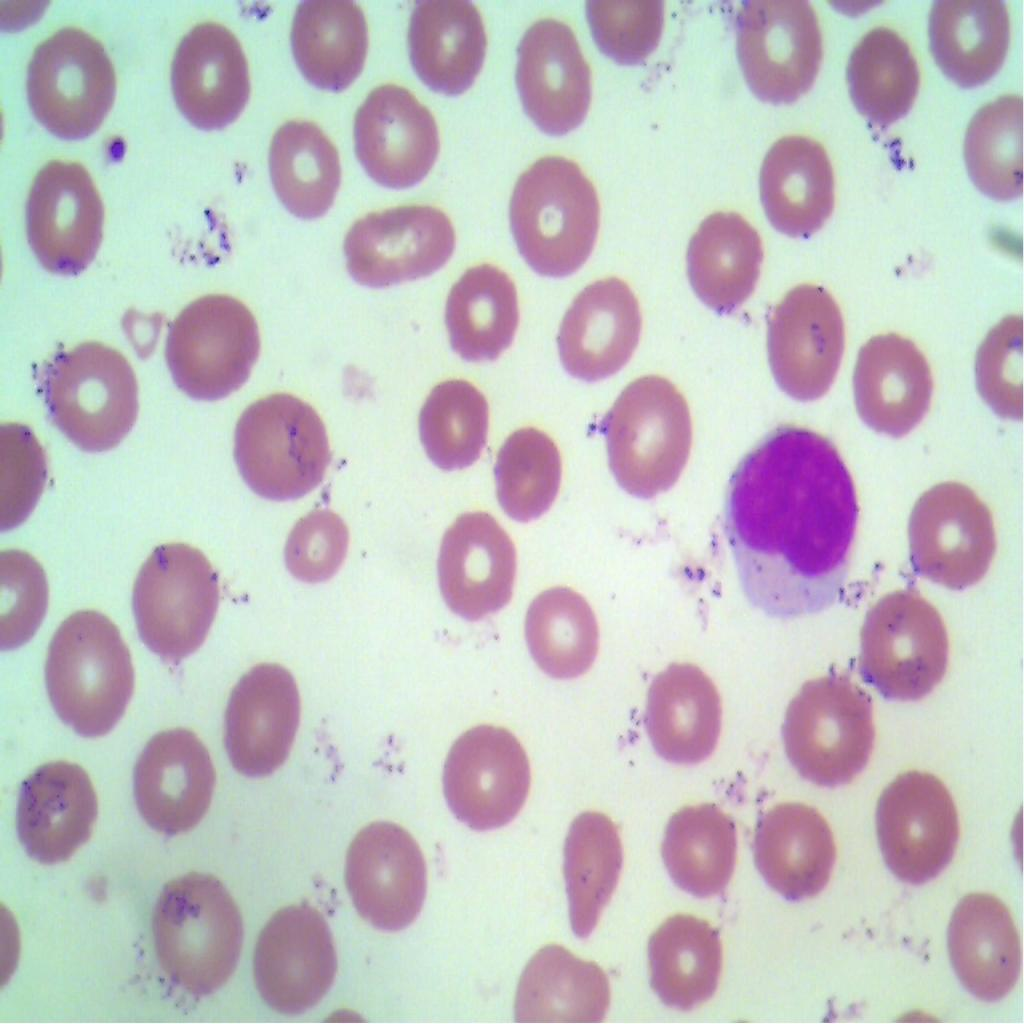Eritrosit: (150, 8, 272, 168), (596, 362, 702, 514), (146, 852, 246, 1010), (846, 578, 955, 718), (118, 530, 230, 664), (221, 384, 338, 512), (6, 159, 112, 295), (19, 9, 123, 144), (509, 17, 613, 152), (328, 195, 466, 296), (16, 744, 109, 890), (928, 876, 1023, 1018), (335, 817, 446, 938), (756, 264, 849, 408), (39, 604, 136, 741), (646, 782, 749, 911), (426, 488, 528, 618), (342, 67, 446, 194), (835, 331, 942, 454), (866, 768, 974, 889), (771, 654, 869, 787), (158, 287, 264, 407), (755, 115, 855, 241), (539, 265, 644, 385), (898, 478, 1003, 597), (213, 664, 308, 794), (246, 901, 346, 1023), (499, 155, 601, 274), (435, 727, 538, 844), (396, 352, 493, 474), (730, 0, 826, 121), (633, 647, 719, 781), (122, 717, 216, 837), (556, 806, 635, 948), (746, 794, 840, 912), (41, 342, 139, 454), (278, 0, 380, 105), (262, 111, 346, 235), (441, 255, 530, 371), (678, 204, 770, 314), (632, 901, 726, 1008), (396, 0, 490, 106), (948, 70, 1023, 200), (514, 572, 594, 692), (269, 494, 364, 594), (918, 0, 1013, 97), (506, 939, 610, 1023), (846, 24, 922, 138), (490, 414, 564, 525), (962, 305, 1023, 414), (0, 550, 56, 662), (118, 292, 182, 374)
Limfosit: (718, 410, 861, 620)
Platelet: (101, 127, 136, 165)
